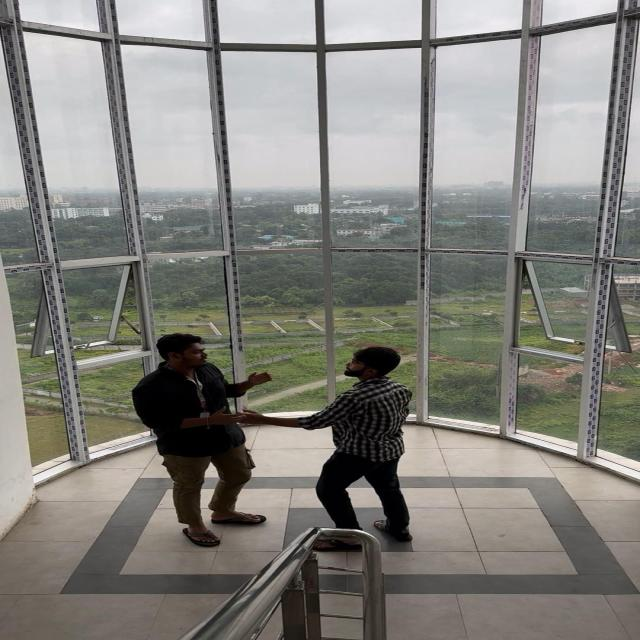fight: (124, 320, 467, 567)
